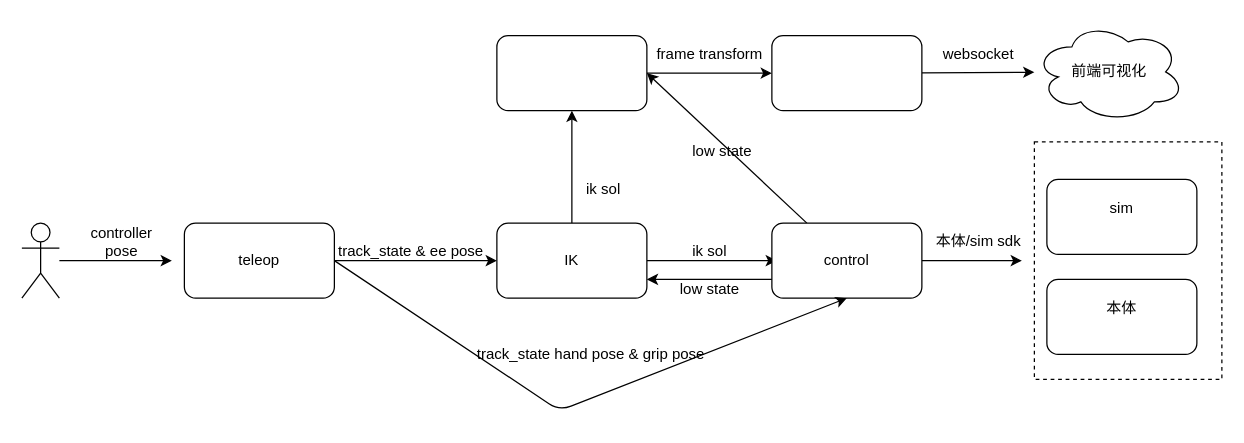
The diagram is 1244 pixels wide and 443 high, and some of its shapes have lost their labels. The centre of each missing label's shape, as x and y in pixels:
Actor: point (40, 260)
FK: point (571, 72)
foxglove: point (846, 72)
